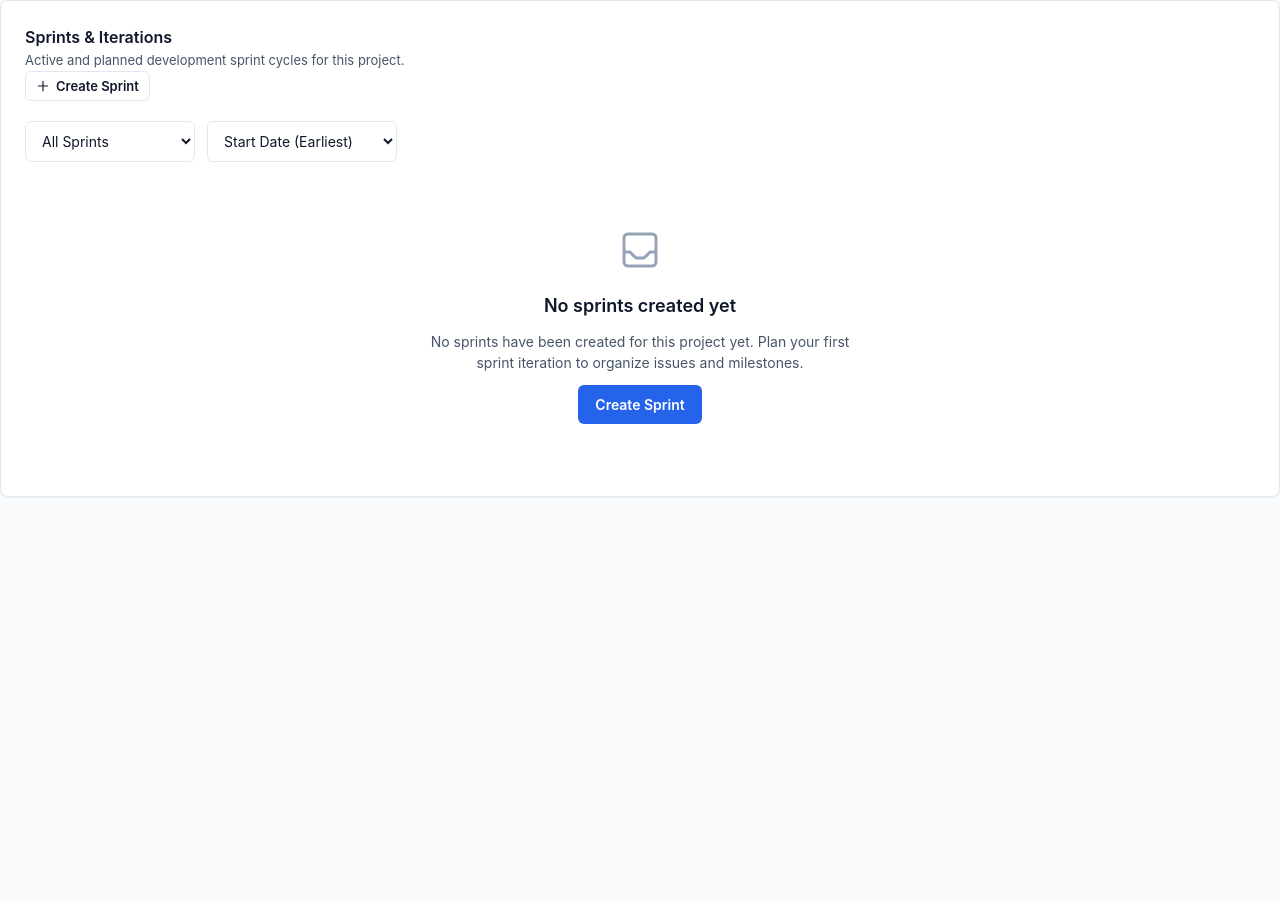
SprintList Component › opens create modal, creates a sprint, and refreshes the list
The width and height of the screenshot is (1280, 900).
Expected: the heading "No sprints created yet" is shown, [544, 292, 736, 318]
Click the button with id "btn-create-sprint". click: (87, 86)
box: [25, 70, 150, 100]
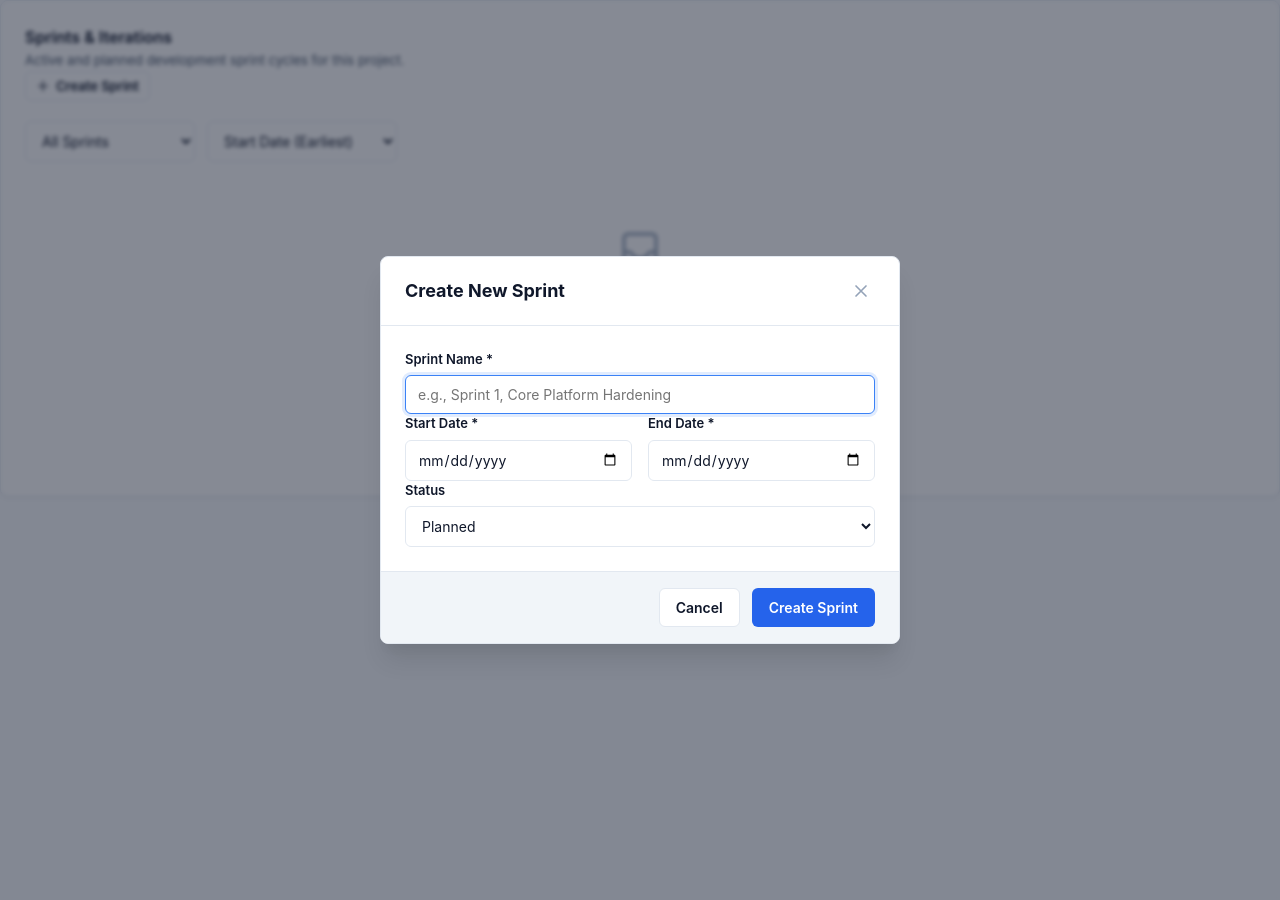
Result: the heading "Create New Sprint" is shown at [405, 277, 565, 304]
Type "Sprint 1 - Foundation" into the field labelled "Sprint Name *". click: (640, 395)
box: [405, 375, 875, 414]
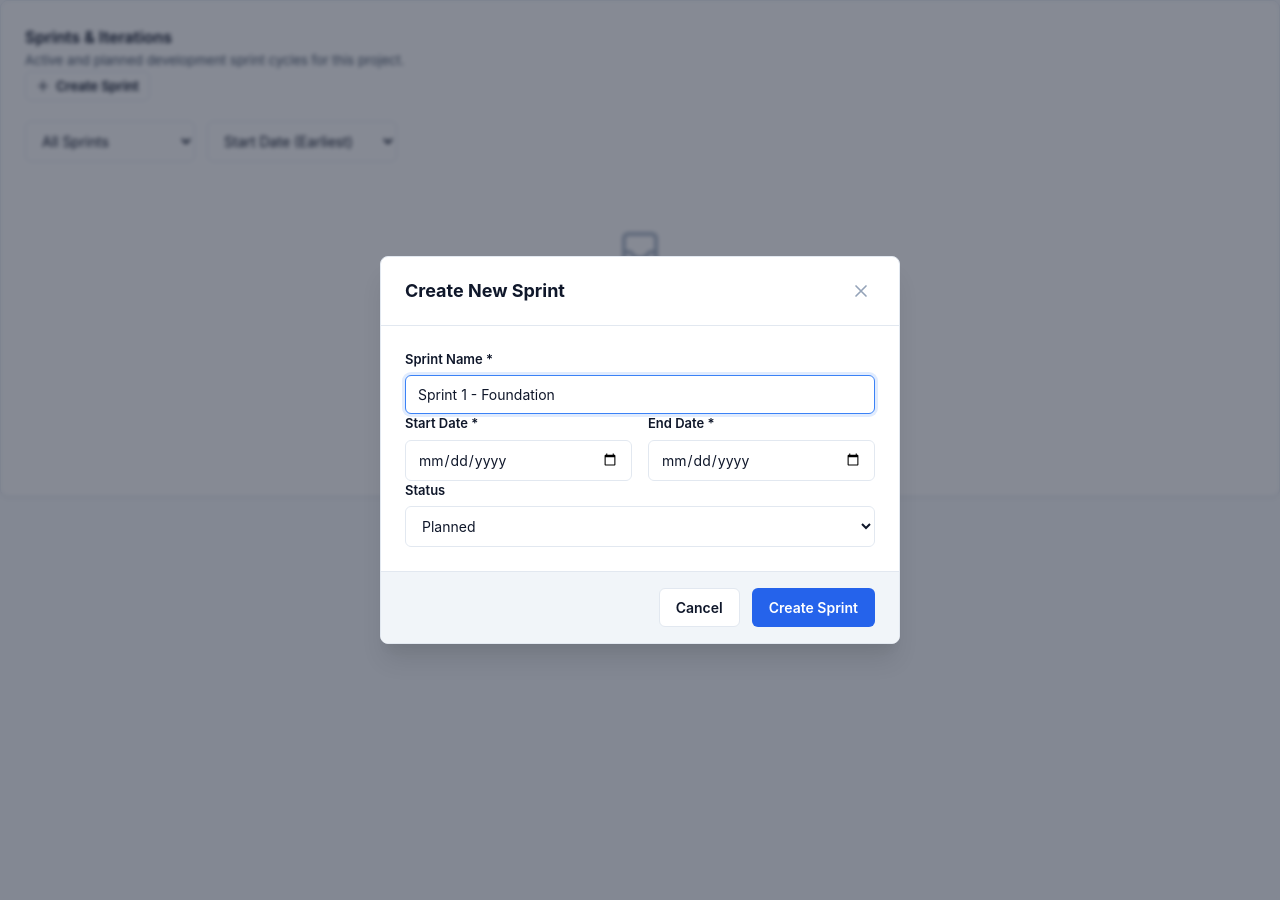
Type "2026-10-01" into the date field labelled "Start Date *". click: (518, 460)
box: [405, 440, 632, 481]
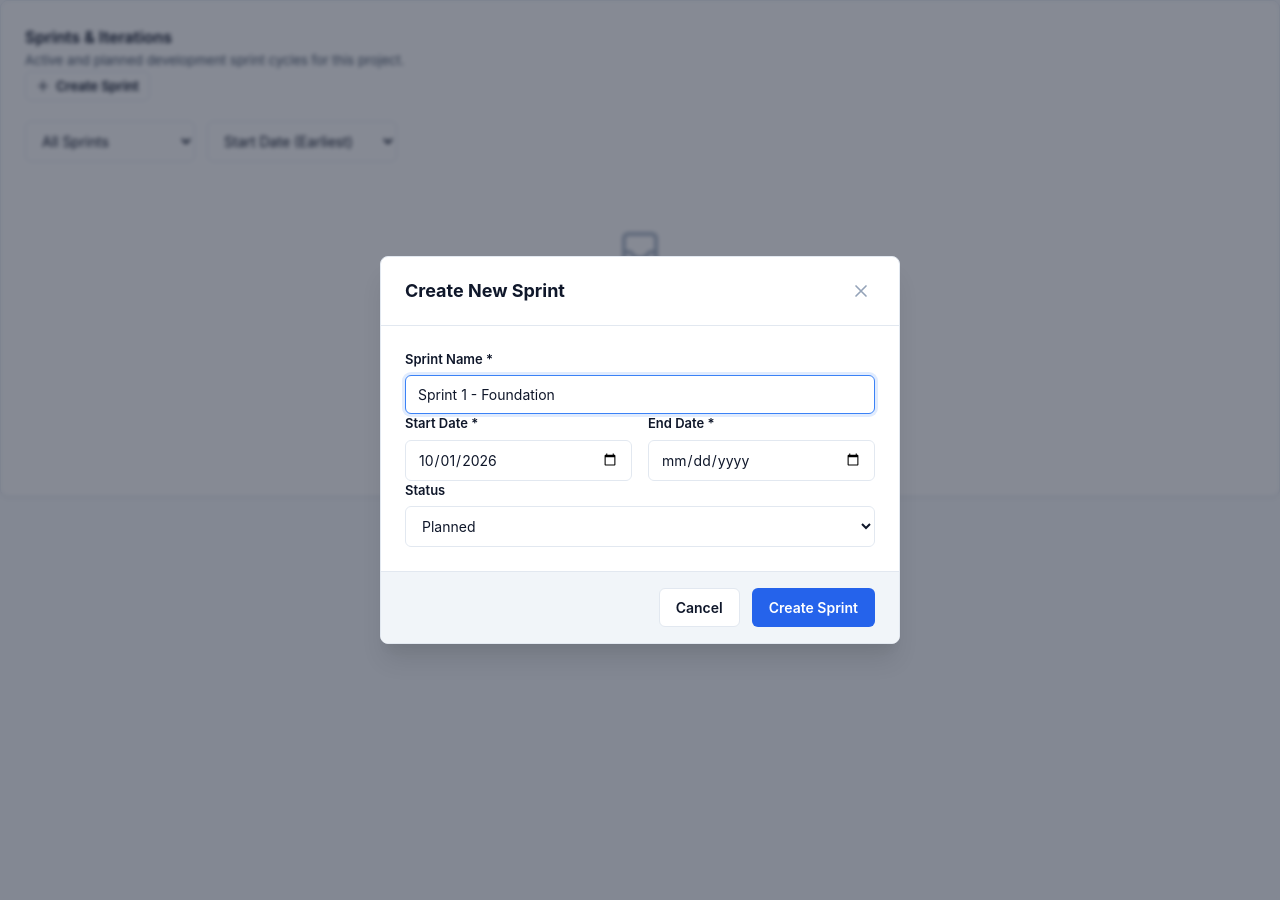
Type "2026-10-15" into the date field labelled "End Date *". click: (762, 460)
box: [648, 440, 875, 481]
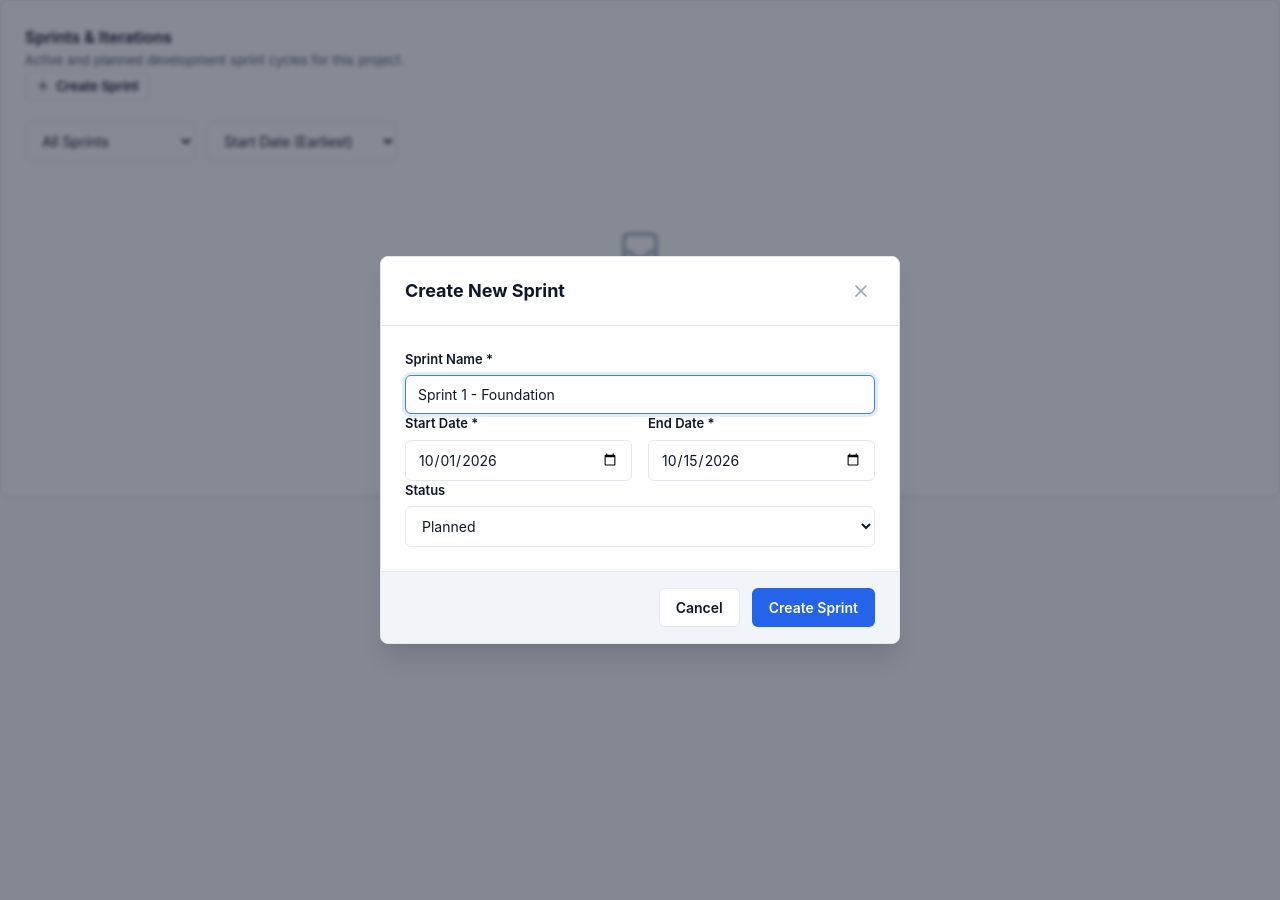
Modal submit button is labeled 'Create Sprint'
Click the button "Create Sprint". click: (813, 608)
box: [752, 588, 875, 627]
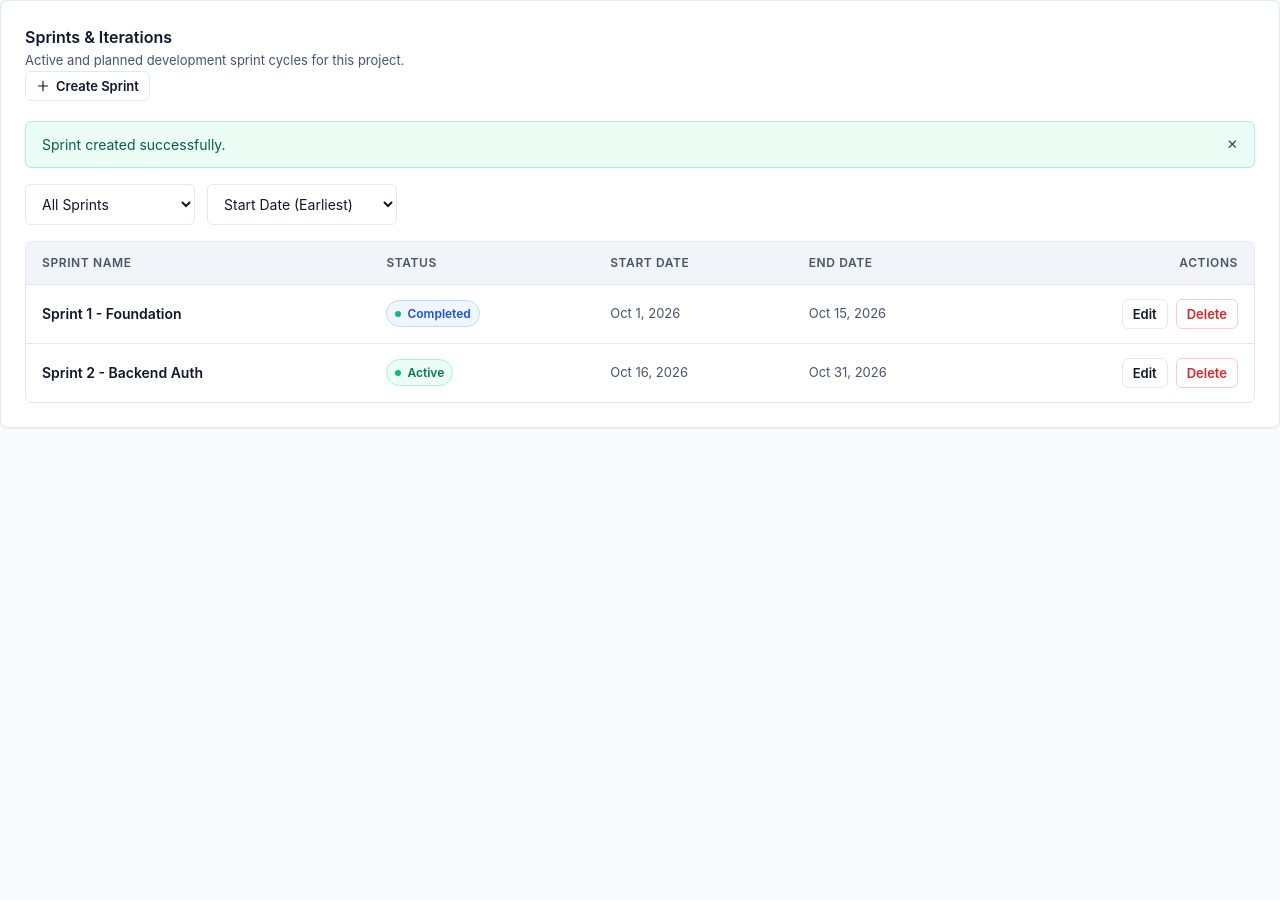
Result: the text "Sprint created successfully." is shown at [42, 134, 226, 154]
